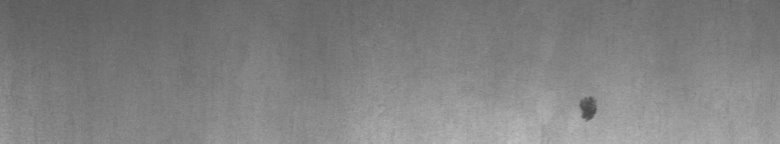fi: (573, 91, 600, 128)
